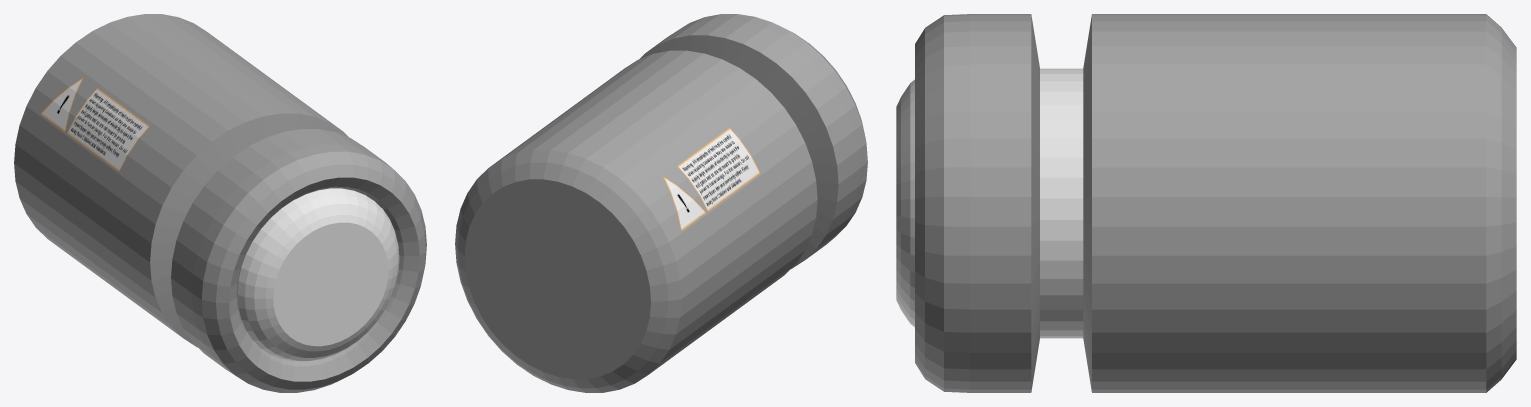
Rendered from fuse.fbx.
3 views of the same model, side by side, from view 1: azimuth 30°, elevation 25°; view 2: azimuth 150°, elevation 25°; view 3: azimuth 270°, elevation 25° (orthographic). The views are drawn at different scales.
Parts seen in each view (by area): view 1: Cylinder, Cylinder.001; view 2: Cylinder; view 3: Cylinder, Cylinder.001.
Part boxes in pixels (box(x1,y1,x2,y2)): Cylinder: box(14, 14, 426, 392); Cylinder.001: box(237, 188, 399, 361); Cylinder: box(455, 14, 867, 392); Cylinder: box(915, 14, 1516, 392); Cylinder.001: box(896, 68, 1083, 338).
Bounding box in the file's own units: 60 × 60 × 98.17.
Materials: 1 (1 with a texture image).
